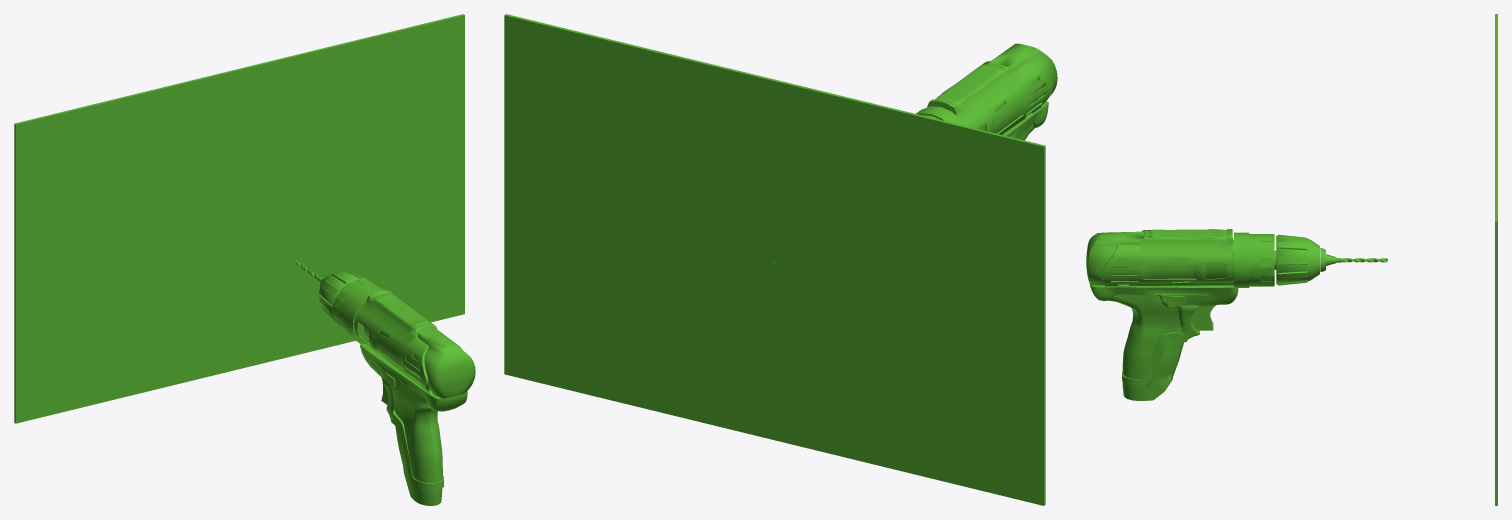
File: furadeira-errada.fbx
The picture shows the model from 3 angles, left to right: view 1: azimuth 30°, elevation 25°; view 2: azimuth 150°, elevation 25°; view 3: azimuth 270°, elevation 25°; orthographic projection. The views are drawn at different scales.
Visible parts, largest first — view 1: pCube1, polySurface32, polySurface22, polySurface27, pCube3, polySurface26, polySurface23, polySurface29; view 2: pCube3, polySurface32, polySurface27, pCube1; view 3: polySurface32, polySurface22, polySurface26, polySurface27, polySurface23, pCube1, pCube3, polySurface29, polySurface24, polySurface21.
Boxes of the visible parts, box(x1,y1,x2,y2) form: pCube1: box(14, 15, 464, 423); polySurface32: box(354, 290, 467, 491); polySurface22: box(393, 382, 447, 505); polySurface27: box(417, 326, 475, 398); pCube3: box(14, 14, 464, 423); polySurface26: box(295, 260, 367, 321); polySurface23: box(333, 279, 380, 332); polySurface29: box(345, 287, 386, 344); pCube3: box(504, 14, 1044, 505); polySurface32: box(927, 61, 1052, 137); polySurface27: box(990, 43, 1057, 97); pCube1: box(506, 14, 1045, 505); polySurface32: box(1089, 229, 1238, 386); polySurface22: box(1109, 284, 1185, 400); polySurface26: box(1276, 234, 1387, 285); polySurface27: box(1086, 231, 1144, 285); polySurface23: box(1249, 234, 1274, 286); pCube1: box(1495, 14, 1497, 505); pCube3: box(1495, 14, 1497, 505); polySurface29: box(1234, 232, 1249, 287); polySurface24: box(1111, 239, 1233, 280); polySurface21: box(1191, 305, 1215, 330).
Size of the model in its own units: 766 by 487 by 640.
